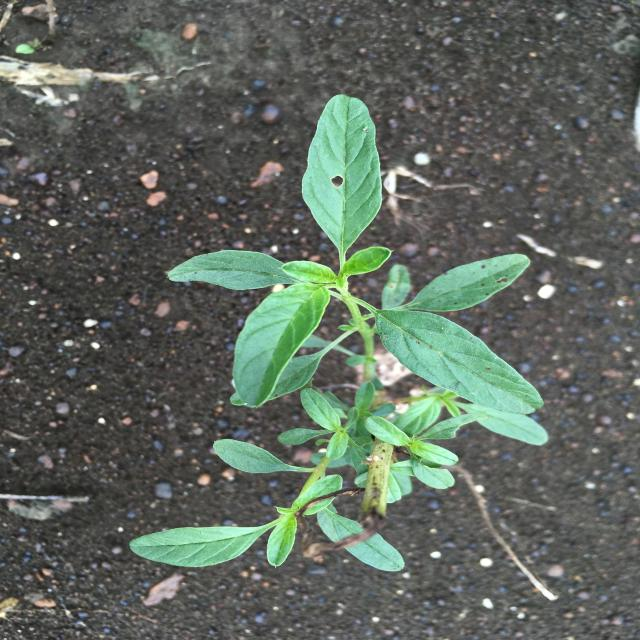Waterhemp: (130, 94, 550, 573)
